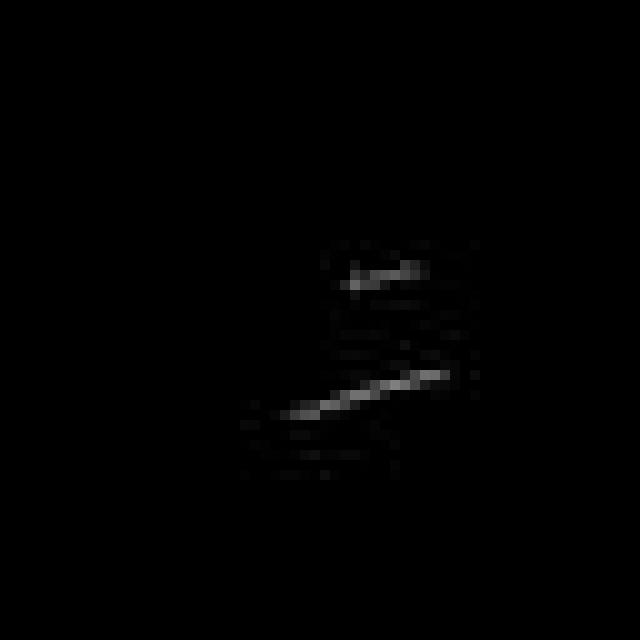2 -two-: (270, 247, 460, 429)
